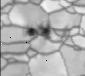good_void: (22, 25, 38, 39), (38, 25, 50, 39)
